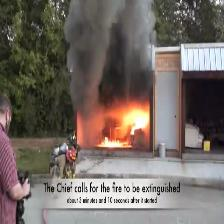fire: (77, 100, 150, 148)
smoke: (70, 0, 154, 114)
